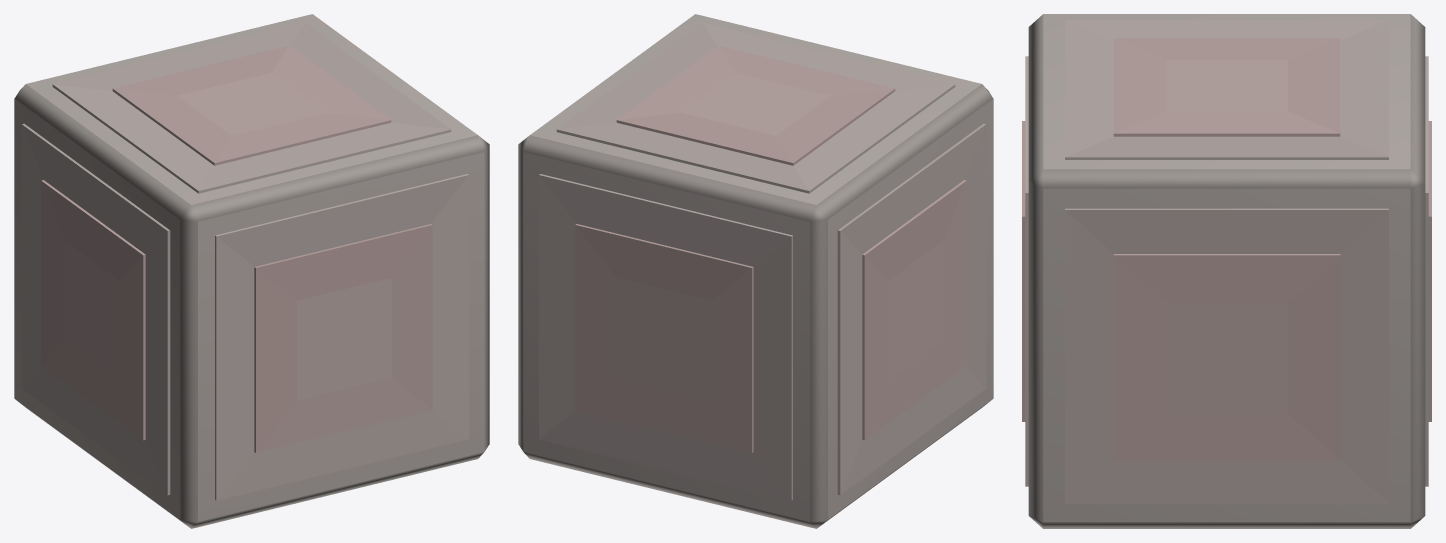
File: salt_crystal.glb
3 views of the same model, side by side, from view 1: azimuth 30°, elevation 25°; view 2: azimuth 150°, elevation 25°; view 3: azimuth 270°, elevation 25° (orthographic). The views are drawn at different scales.
Visible parts, largest first — view 1: Mesh; view 2: Mesh; view 3: Mesh.
Part boxes in pixels (bbox=[...]): Mesh: bbox=[14, 14, 489, 528]; Mesh: bbox=[518, 14, 993, 528]; Mesh: bbox=[1022, 14, 1431, 528].
Size of the model in its own units: 0.506 by 0.506 by 0.506.
